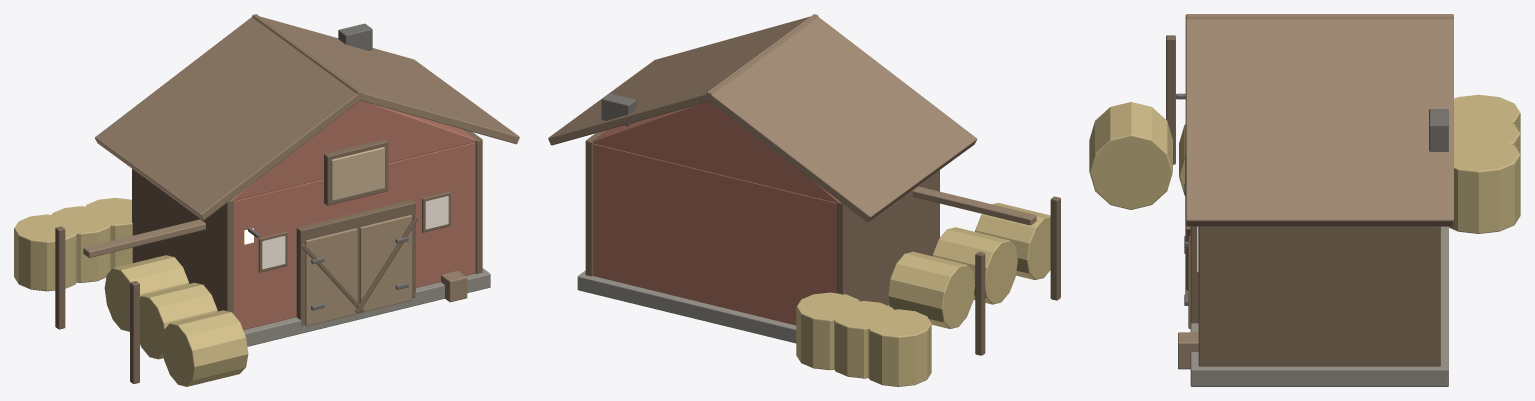
Rendered from barn.glb.
3 renders of one model, left to right at view 1: azimuth 30°, elevation 25°; view 2: azimuth 150°, elevation 25°; view 3: azimuth 270°, elevation 25°, orthographic. The views are drawn at different scales.
Parts seen in each view (by area): view 1: base; view 2: base; view 3: base.
Boxes of the visible parts, bbox=[...] form: base: bbox=[14, 14, 519, 386]; base: bbox=[548, 14, 1060, 386]; base: bbox=[1089, 14, 1520, 386].
Bounding box in the file's own units: 5.95 × 3.23 × 4.34.
